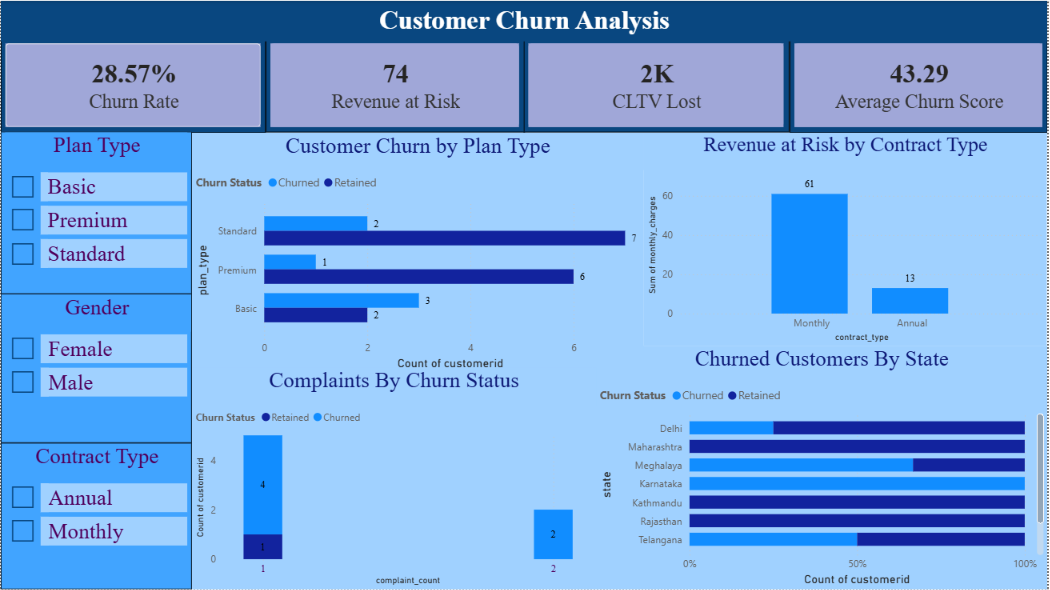

Layout of this report page (visuals, bound fields, positions):
{"tool":"powerbi","page":{"name":"Page 1","canvas":[1280,720],"ordinal":0},"visuals":[{"type":"cardVisual","fields":{"Data":["exported_churn_analysis_data.Churn Rate"]},"box":[0,46.5,324.1,114.9],"z":0},{"type":"cardVisual","fields":{"Data":["exported_churn_analysis_data.Revenue at Risk"]},"box":[323.6,47,316.4,114],"z":1000},{"type":"cardVisual","fields":{"Data":["exported_churn_analysis_data.CLTV Lost"]},"box":[640,47,325,114],"z":2000},{"type":"cardVisual","fields":{"Data":["exported_churn_analysis_data.Average Churn Score"]},"box":[964.8,46.5,315.5,114.9],"z":3000},{"type":"clusteredBarChart","title":"Customer Churn by Plan Type","fields":{"Category":["exported_churn_analysis_data.plan_type"],"Y":["CountNonNull(exported_churn_analysis_data.customerid)"],"Series":["exported_churn_analysis_data.Churn Status"]},"box":[233.8,161.1,553.1,295.1],"z":4000},{"type":"clusteredColumnChart","title":"Revenue at Risk by Contract Type","fields":{"Category":["exported_churn_analysis_data.contract_type"],"Y":["Sum(exported_churn_analysis_data.monthly_charges)"]},"box":[786.8,161.1,493.2,260.8],"z":5000},{"type":"hundredPercentStackedBarChart","title":"Churned Customers By State","fields":{"Category":["exported_churn_analysis_data.state"],"Y":["CountNonNull(exported_churn_analysis_data.customerid)"],"Series":["exported_churn_analysis_data.Churn Status"]},"box":[727.6,421.9,552.7,298.4],"z":6000},{"type":"ribbonChart","title":"Complaints By Churn Status","fields":{"Category":["exported_churn_analysis_data.complaint_count"],"Y":["CountNonNull(exported_churn_analysis_data.customerid)"],"Series":["exported_churn_analysis_data.Churn Status"]},"box":[233.8,449,494.6,270.8],"z":7000},{"type":"textbox","box":[0,0,1280.3,49.4],"z":8000},{"type":"slicer","title":"Plan Type","fields":{"Values":["exported_churn_analysis_data.plan_type"]},"box":[0,159.6,233.8,198.1],"z":9000},{"type":"slicer","title":"Contract Type","fields":{"Values":["exported_churn_analysis_data.contract_type"]},"box":[0,540.2,233.8,179.6],"z":10000},{"type":"slicer","title":"Gender","fields":{"Values":["exported_churn_analysis_data.gender"]},"box":[0,357.8,233.8,182.4],"z":11000}]}

Visuals, with their boxes in screenshot pixels (x1, y1, x2, y2), scaled from the page's 1280x720 canvas onto the 1050x590 screenshot:
cardVisual - exported_churn_analysis_data.Churn Rate: left=0, top=38, right=266, bottom=132
cardVisual - exported_churn_analysis_data.Revenue at Risk: left=265, top=39, right=525, bottom=132
cardVisual - exported_churn_analysis_data.CLTV Lost: left=525, top=39, right=792, bottom=132
cardVisual - exported_churn_analysis_data.Average Churn Score: left=791, top=38, right=1049, bottom=132
"Customer Churn by Plan Type" clusteredBarChart: left=192, top=132, right=646, bottom=374
"Revenue at Risk by Contract Type" clusteredColumnChart: left=645, top=132, right=1049, bottom=346
"Churned Customers By State" hundredPercentStackedBarChart: left=597, top=346, right=1049, bottom=589
"Complaints By Churn Status" ribbonChart: left=192, top=368, right=598, bottom=589
textbox: left=0, top=0, right=1049, bottom=40
"Plan Type" slicer: left=0, top=131, right=192, bottom=293
"Contract Type" slicer: left=0, top=443, right=192, bottom=589
"Gender" slicer: left=0, top=293, right=192, bottom=443
